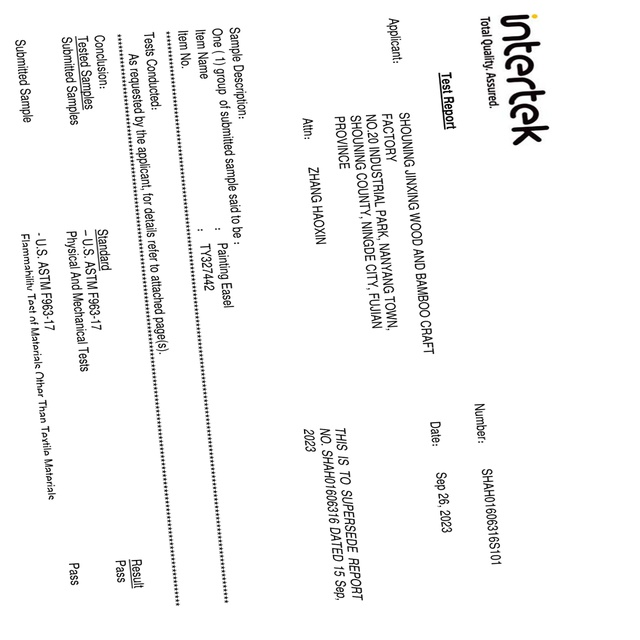intertek: (497, 10, 556, 151)
